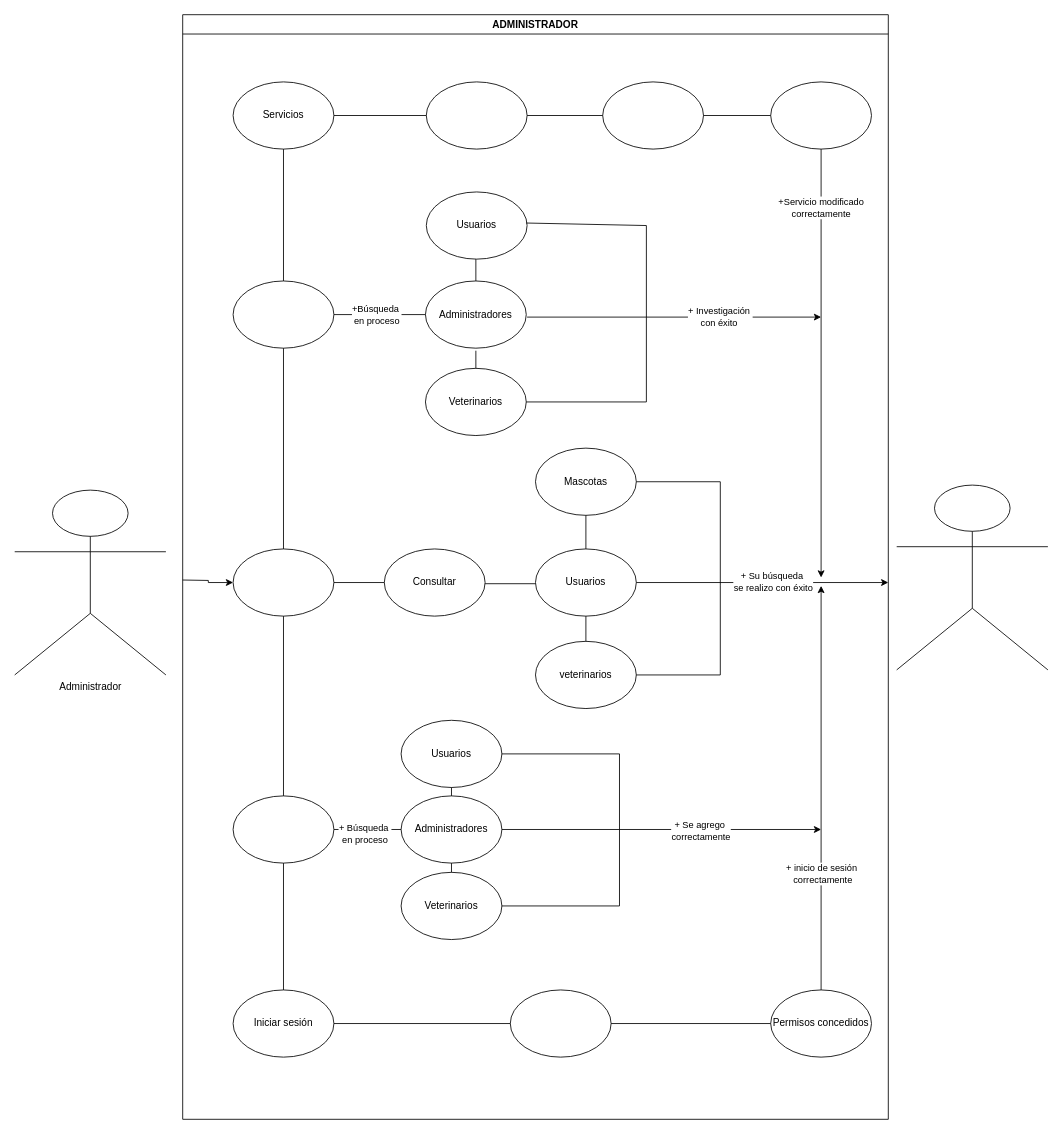
Image size: 1063x1134. Some labels were removed from this diagram. Here are the shapes that lost their labels. From the top down, the centre of each, then its label:
At pixel 476 115: "Cambiar".
At pixel 653 115: "Eliminar".
At pixel 821 115: "Poner promociones".
At pixel 283 314: "Deshabilitar".
At pixel 283 582: "Funciones".
At pixel 972 577: "Sistema".
At pixel 283 829: "Agregar".
At pixel 560 1023: "Verificar credenciales".
